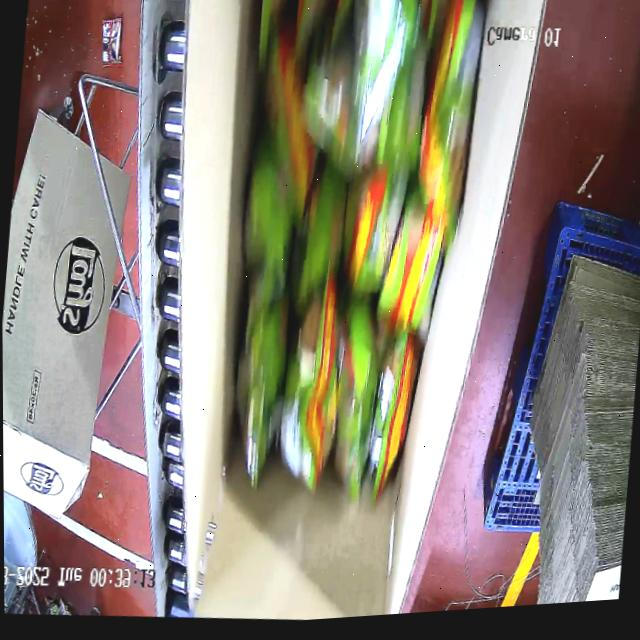YOGURT_HERB: (216, 0, 490, 523)
